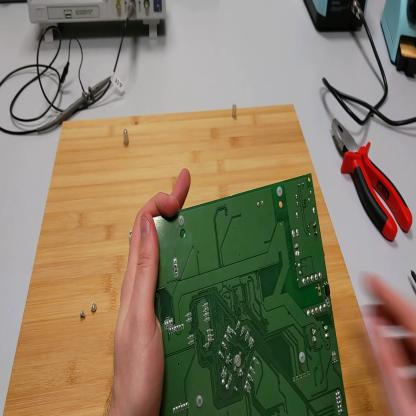hand: (111, 166, 193, 416), (361, 271, 416, 416)
low voltage board: (154, 173, 348, 416)
oscilloscope: (28, 1, 168, 37)
oscilloscope probe tip: (37, 71, 111, 135)
pliers: (332, 116, 414, 242)
screwdriver-: (411, 271, 416, 281)
welder base: (381, 2, 416, 81)
welder station: (305, 1, 368, 34)
working area: (4, 104, 395, 415)
